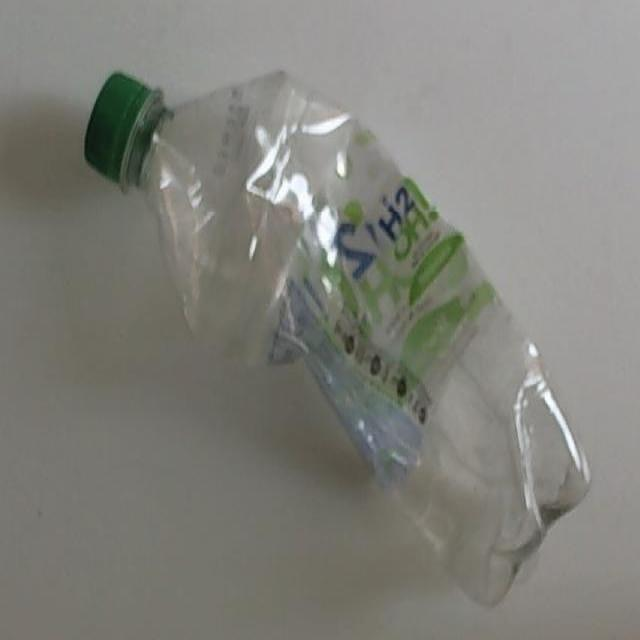defect: (79, 63, 595, 614)
